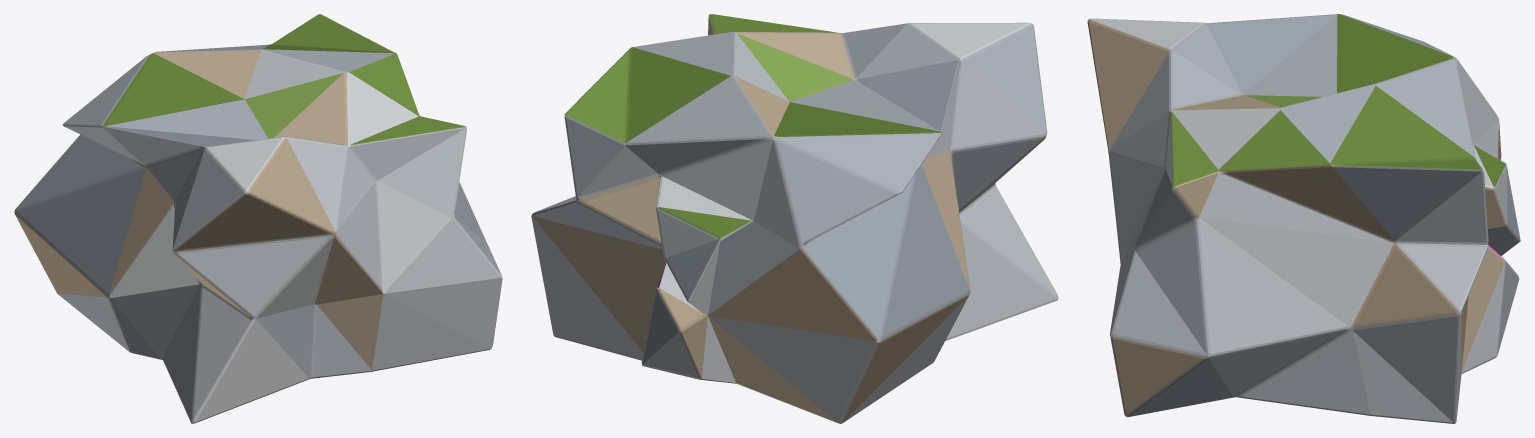
File: MineableSteel_b.fbx
3 views of the same model, side by side, from view 1: azimuth 30°, elevation 25°; view 2: azimuth 150°, elevation 25°; view 3: azimuth 270°, elevation 25° (orthographic). The views are drawn at different scales.
Visible parts, largest first — view 1: MineableSteel_b; view 2: MineableSteel_b; view 3: MineableSteel_b.
Boxes of the visible parts, x1,y1,x2,y2 form: MineableSteel_b: (14, 14, 502, 423); MineableSteel_b: (531, 14, 1058, 423); MineableSteel_b: (1087, 14, 1520, 423).
Size of what is drawn, in the model's own units: 0.7958 by 0.55 by 0.7951.
